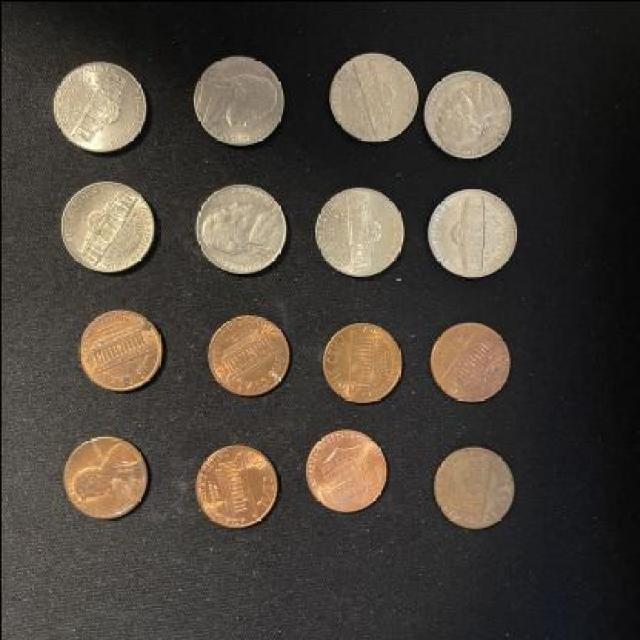Nickel: (190, 54, 292, 150), (51, 55, 148, 154), (58, 177, 156, 274), (322, 50, 418, 146), (192, 181, 288, 274), (424, 184, 518, 278), (312, 185, 406, 278), (423, 70, 509, 162)
Penny: (60, 432, 148, 523), (206, 308, 292, 400), (304, 423, 388, 514), (192, 440, 278, 528), (432, 438, 516, 528), (80, 303, 166, 389), (318, 317, 402, 403), (430, 316, 512, 402)
